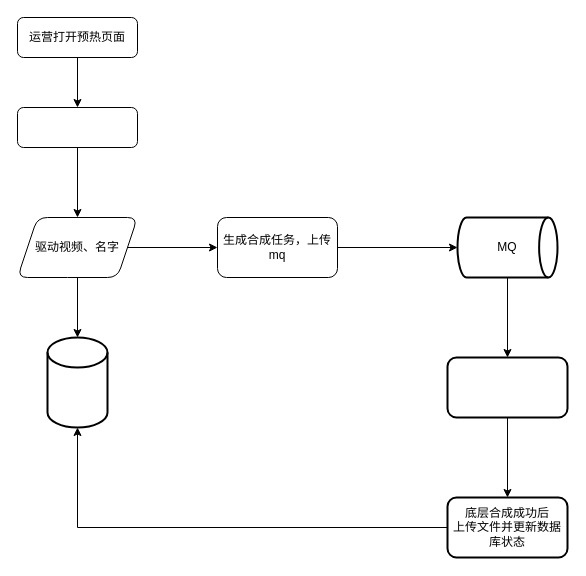
Some shapes in this 586 by 576 pixel diagram are drawn without their labels. Each missing label, with the box of its shape:
DB: (46, 336, 108, 428)
上传驱动视频并填写名字: (16, 106, 138, 148)
缓存视频消费任务 并发起合成: (446, 356, 568, 418)
